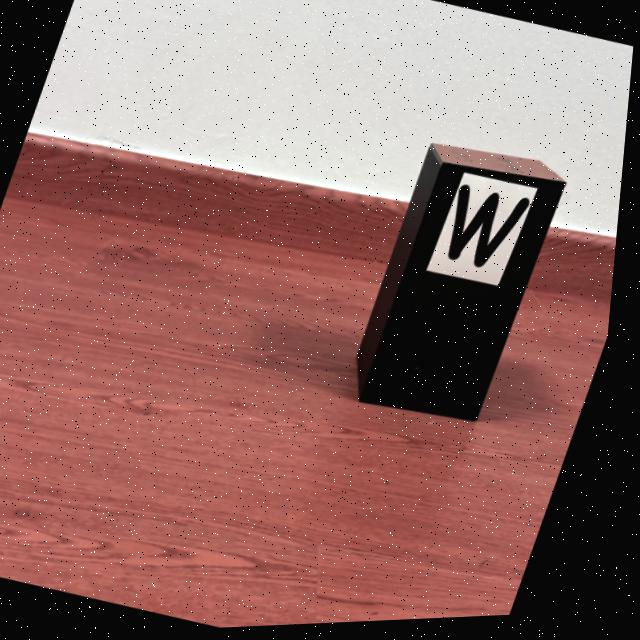W: (453, 189, 534, 272)
